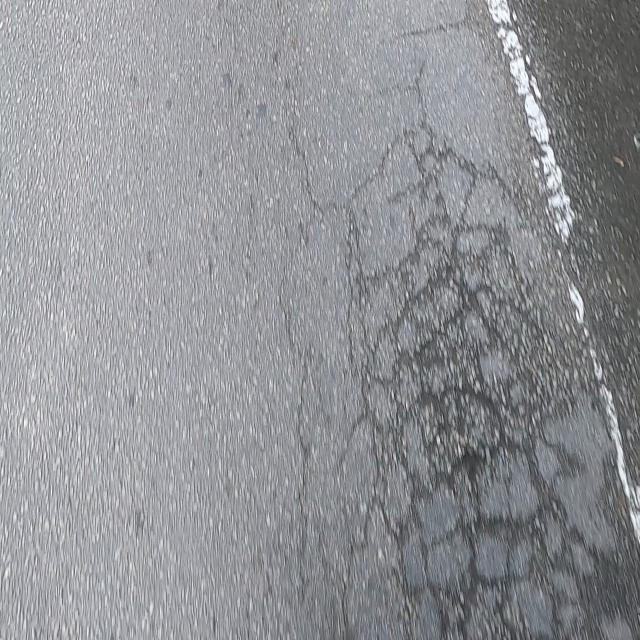Retak-Buaya: (339, 107, 635, 640)
